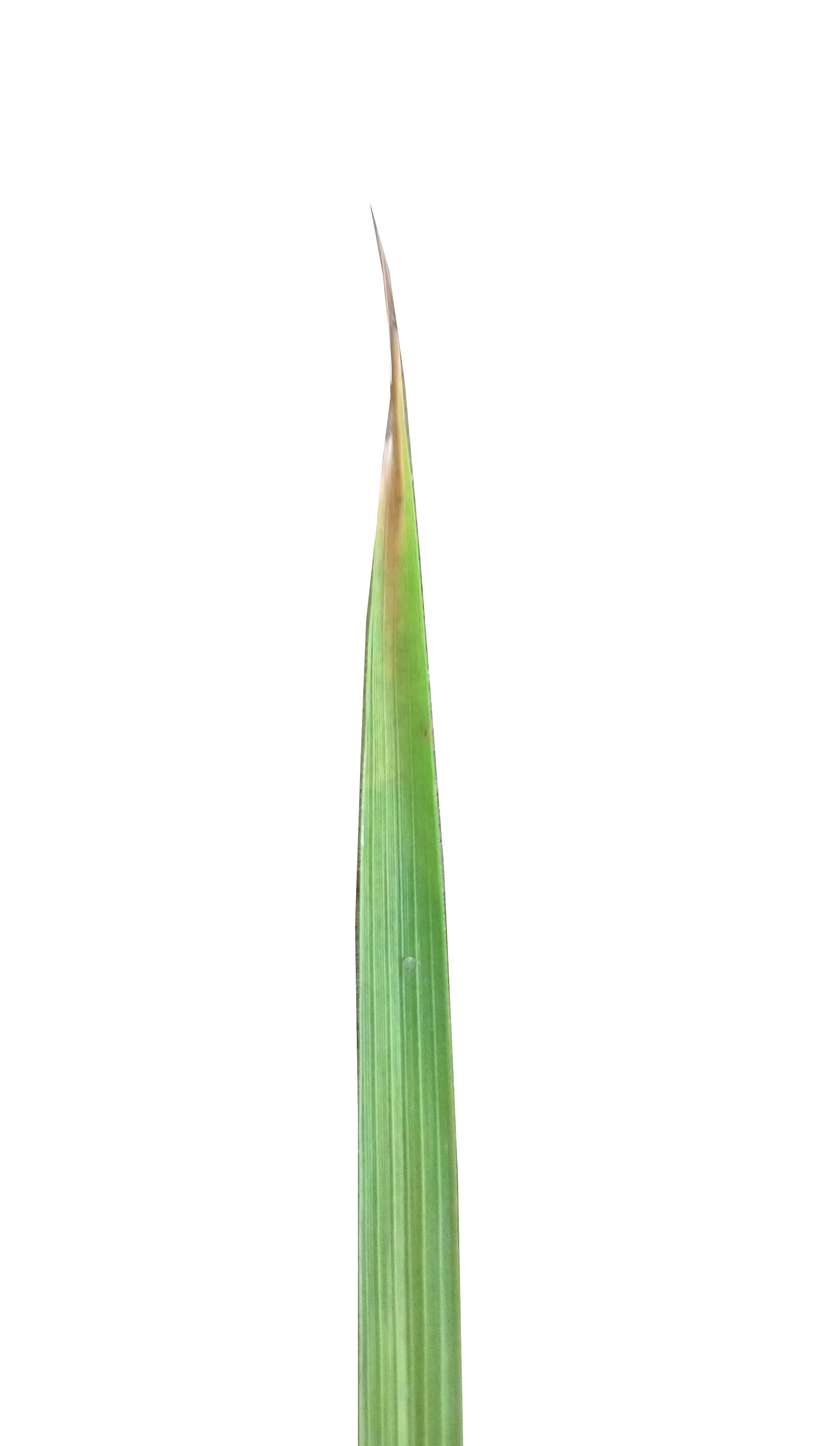Tungro: (367, 342, 435, 792)
